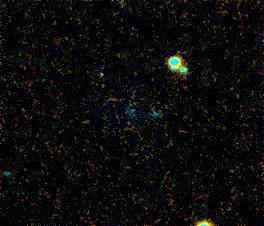star: (84, 60, 114, 90)
